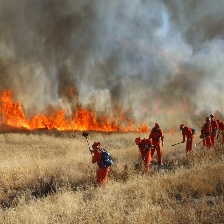fire: (1, 92, 151, 133)
smoke: (1, 2, 223, 115)
